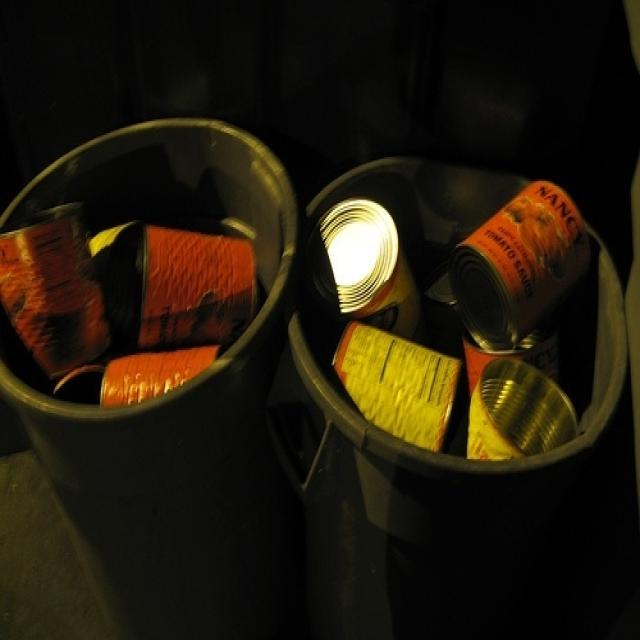can: (296, 160, 598, 430), (11, 183, 243, 382)
